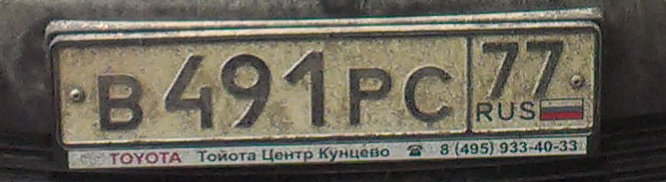character: (219, 44, 277, 133), (160, 48, 220, 134), (278, 47, 334, 131), (92, 69, 149, 136), (401, 62, 457, 126), (346, 62, 394, 132), (477, 38, 523, 99), (523, 36, 568, 98)
